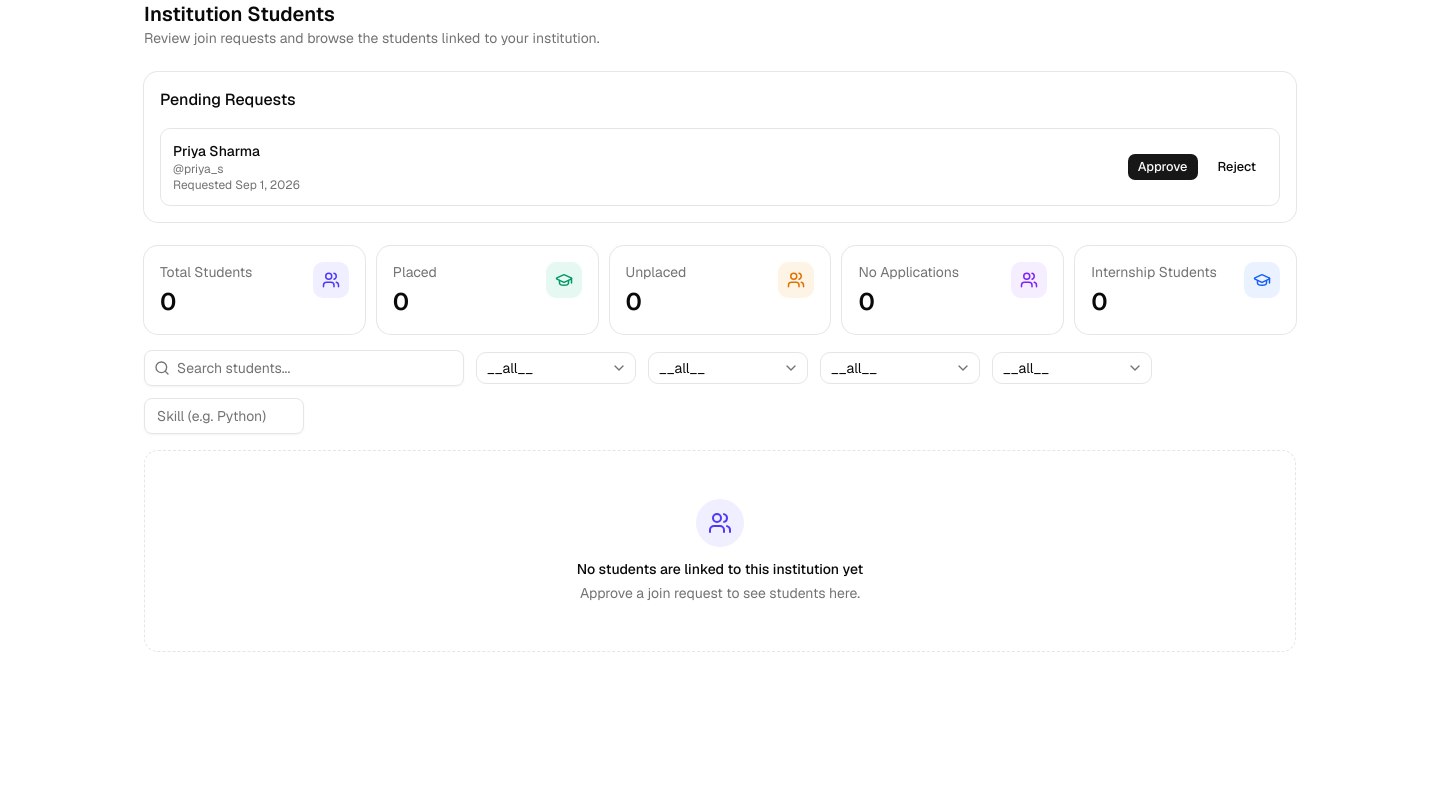
InstitutionStudentsView › approves a request through the confirmation dialog
This screenshot has width=1440, height=810.
Expected: the text "Priya Sharma" is shown, [173,142,260,160]
Click the button "Approve" at (1163, 167), box [1127,153,1198,181]
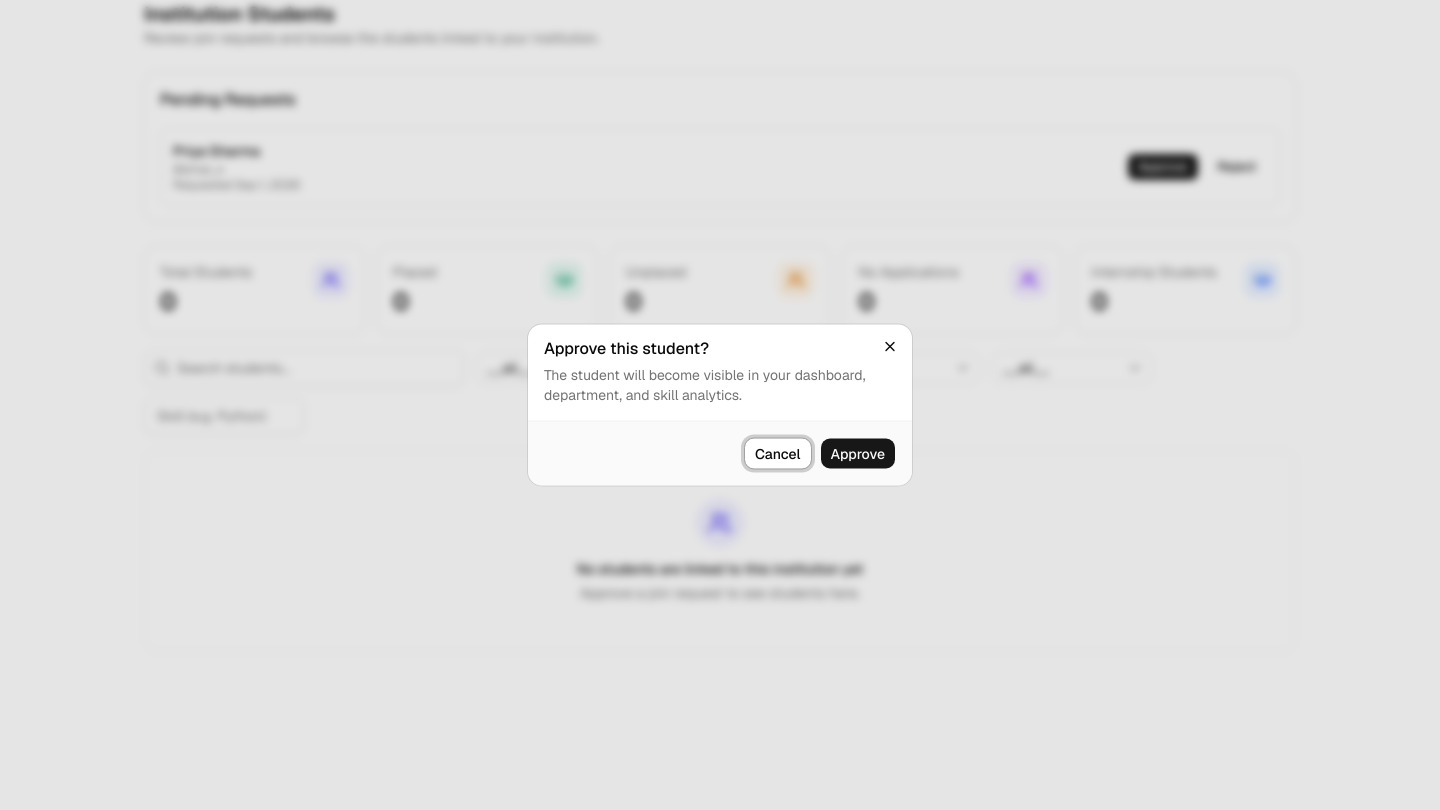
Click the button "Approve" at (858, 454), box [820,438,896,470]
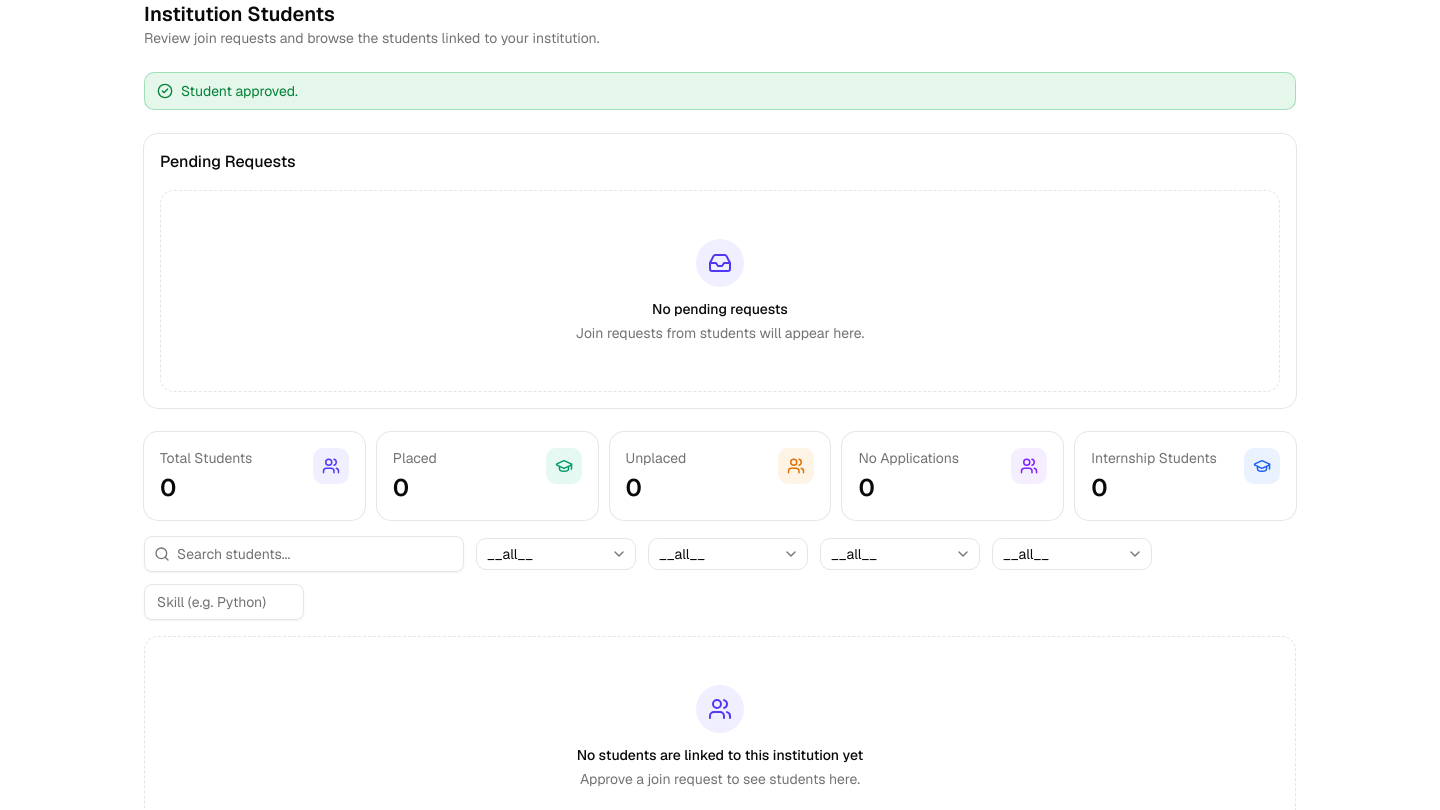
Now the text "Student approved." is shown, box [181,81,298,101]
